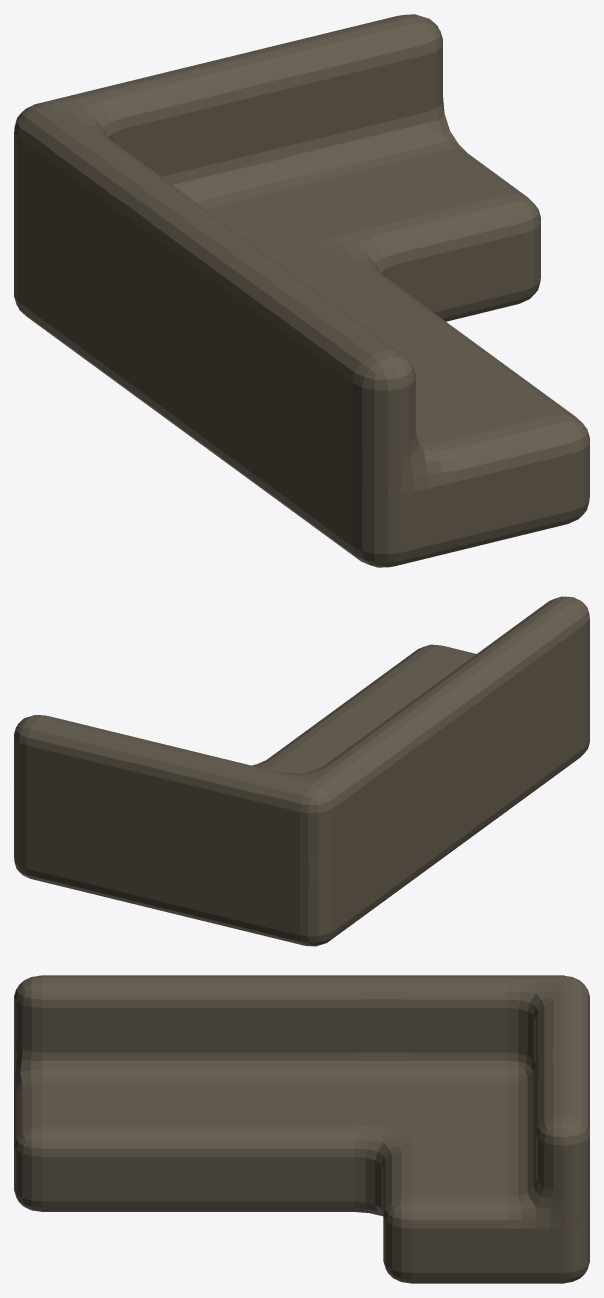
File: Couch.fbx
3 renders of one model, top to bottom at view 1: azimuth 30°, elevation 25°; view 2: azimuth 150°, elevation 25°; view 3: azimuth 270°, elevation 25°, orthographic. The views are drawn at different scales.
Parts seen in each view (by area): view 1: Couch.001; view 2: Couch.001; view 3: Couch.001.
Boxes of the visible parts, x1,y1,x2,y2 form: Couch.001: (14, 14, 589, 567); Couch.001: (14, 596, 589, 946); Couch.001: (14, 975, 589, 1283).
Size of the model in its own units: 145 by 70 by 221.
